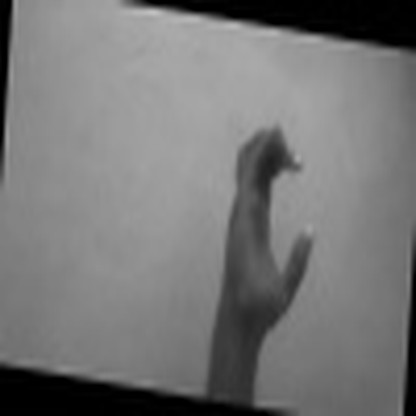c: (221, 115, 322, 313)
